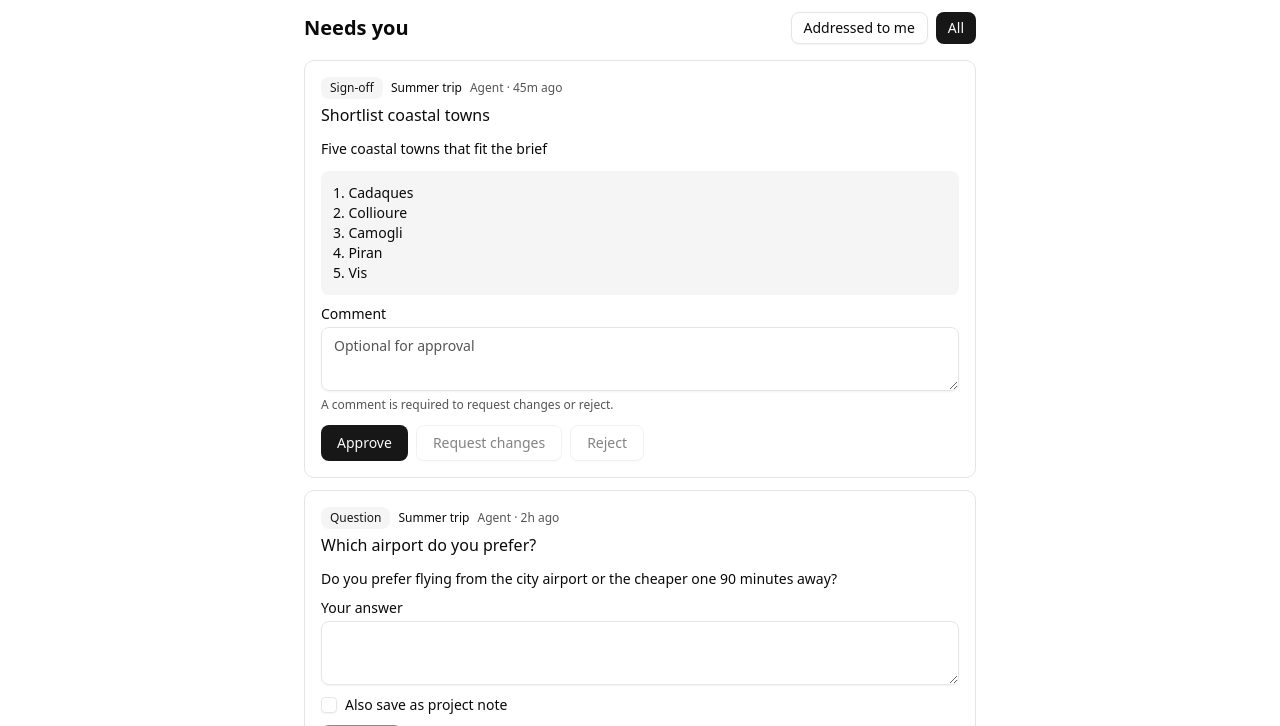
Needs you inbox › a failed decision restores the item and shows an error
The width and height of the screenshot is (1280, 726).
Click the button "Approve" at (364, 443), box top-left (321, 425), bottom-right (408, 461)
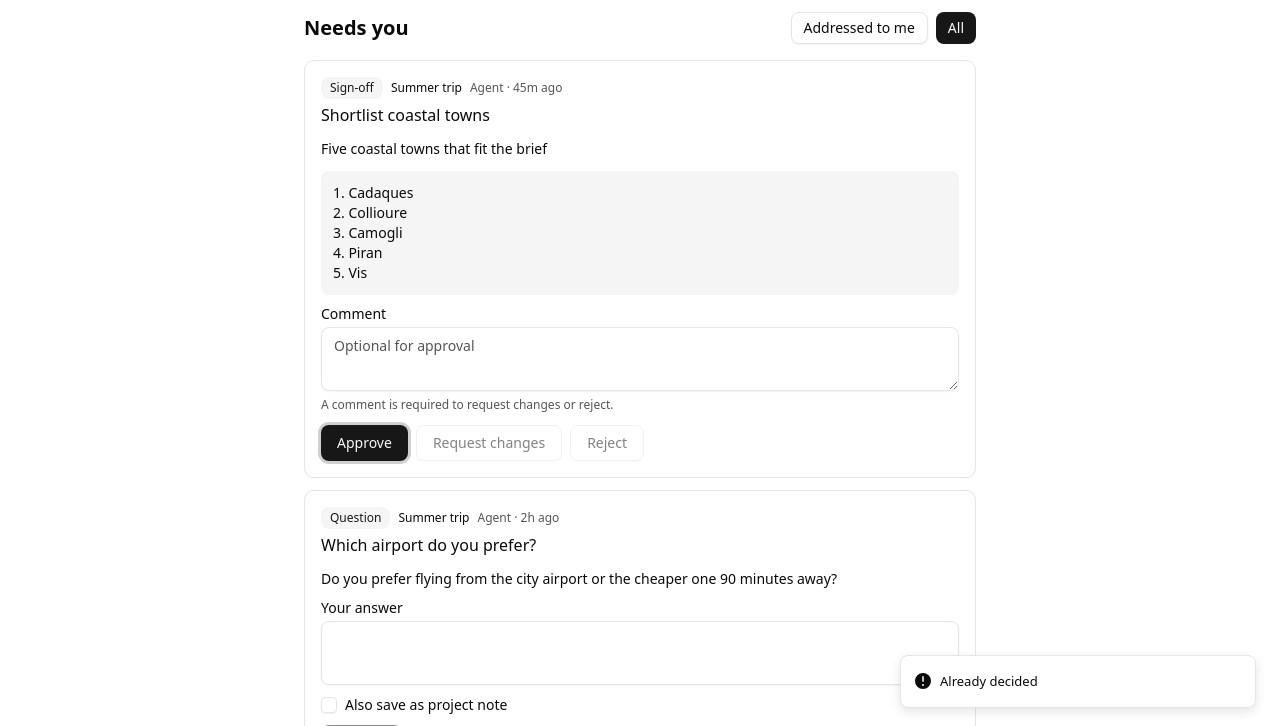
Expected: the text "Five coastal towns that fit the brief" is shown, top-left (321, 139), bottom-right (547, 158)
Now the text "Already decided" is shown, box top-left (940, 672), bottom-right (1038, 691)
